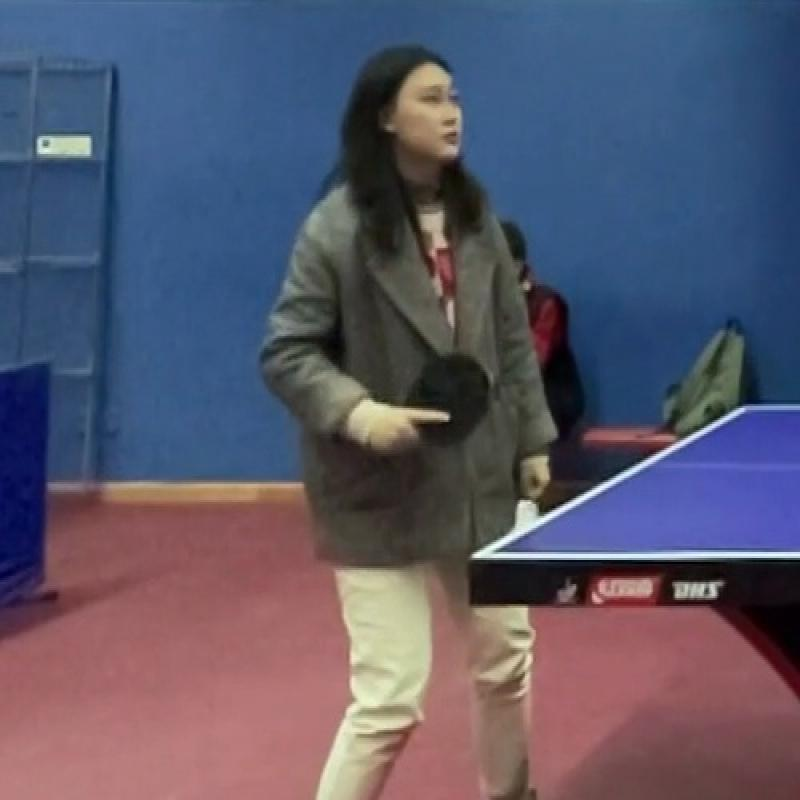bats: (399, 349, 497, 463)
